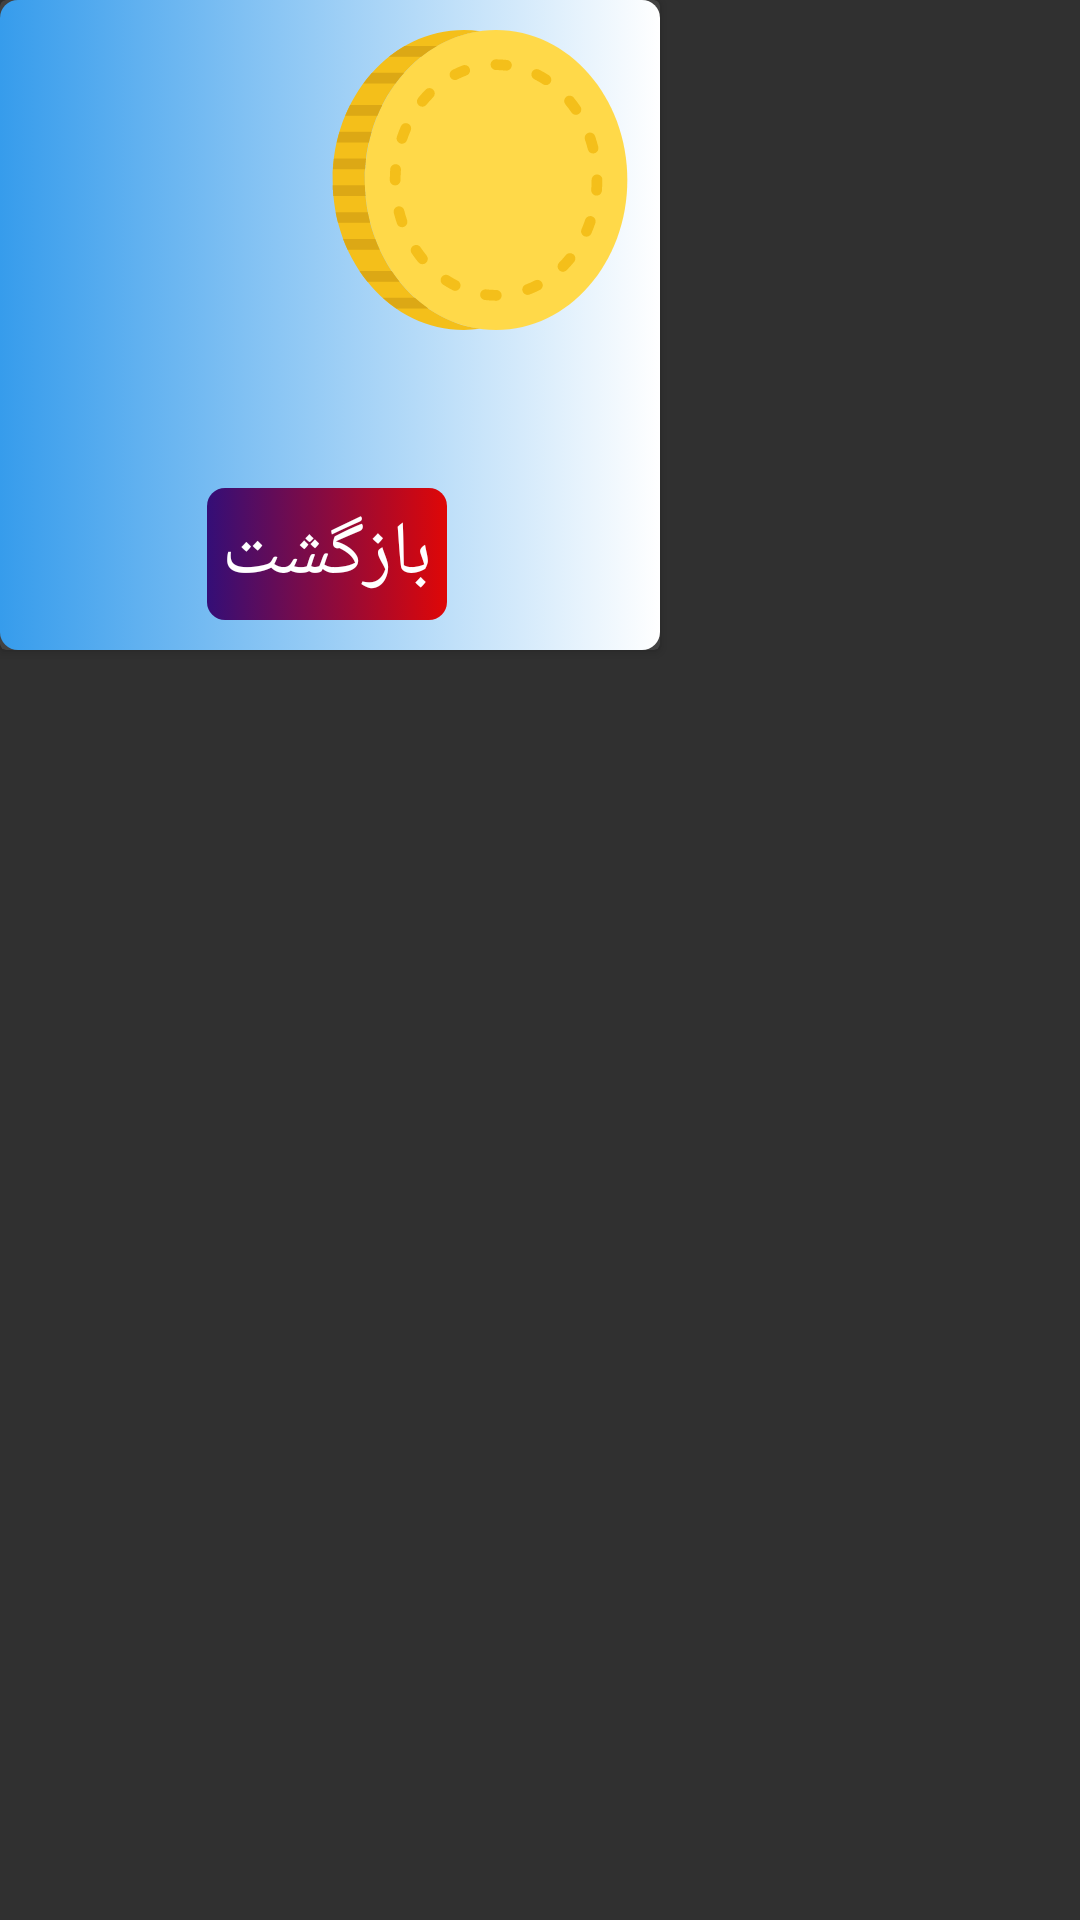

Screen size 1080*1920. Icon name, then its center in pixels as (x,y):
coin: (480,180)
